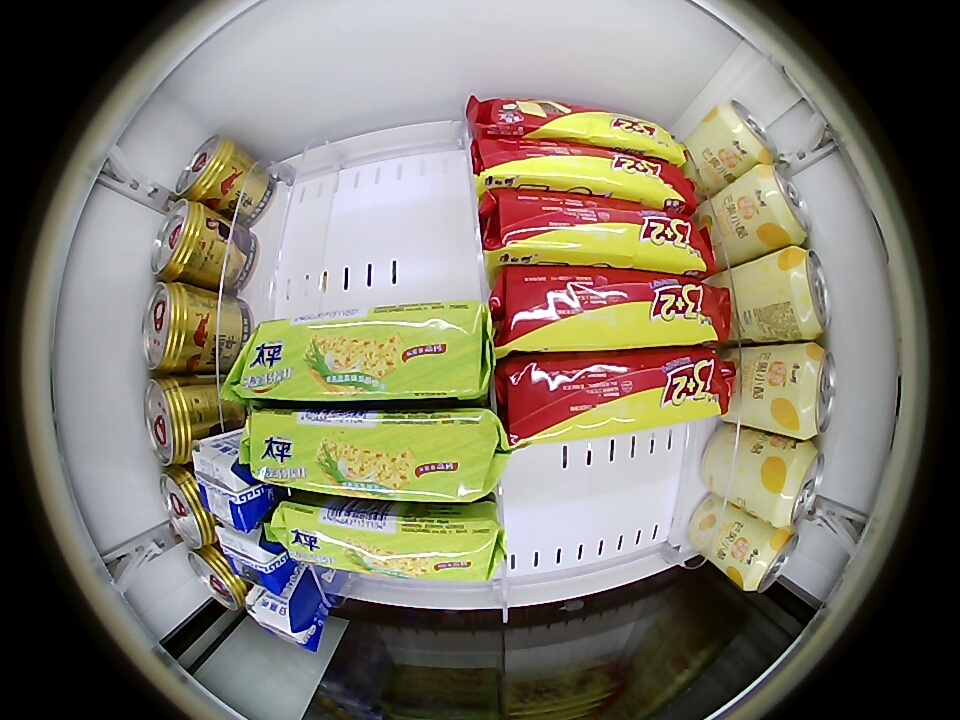3jia2: (504, 350, 723, 444), (498, 268, 724, 351), (490, 194, 708, 271), (477, 142, 694, 207), (476, 97, 684, 159)
anmuxi: (192, 438, 269, 531), (216, 521, 294, 593), (245, 583, 324, 652)
hongniu: (141, 282, 205, 374), (143, 376, 205, 466), (150, 200, 213, 282), (159, 466, 217, 549), (174, 136, 241, 202), (188, 546, 249, 611)
mangguoxiaolao: (766, 441, 826, 527), (784, 344, 836, 439), (779, 247, 831, 340), (752, 163, 810, 245), (713, 100, 777, 165), (739, 527, 800, 593)
taipingshuda: (232, 305, 486, 404), (246, 403, 501, 501), (273, 498, 500, 584)
